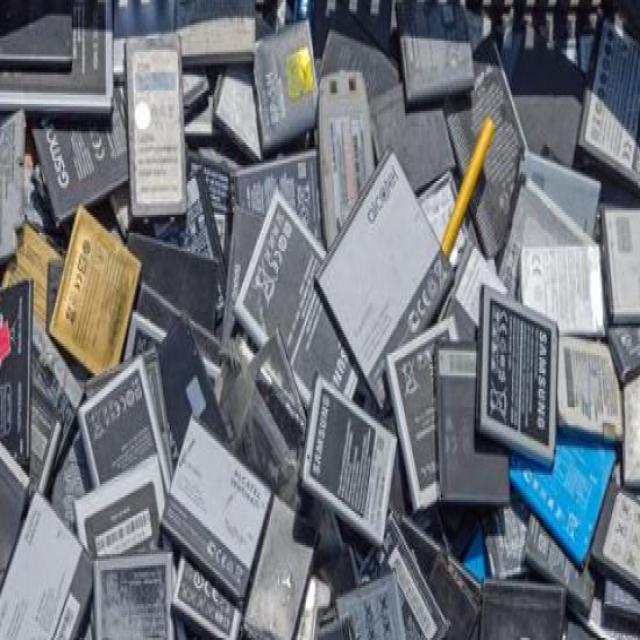electronic: (208, 162, 467, 470)
